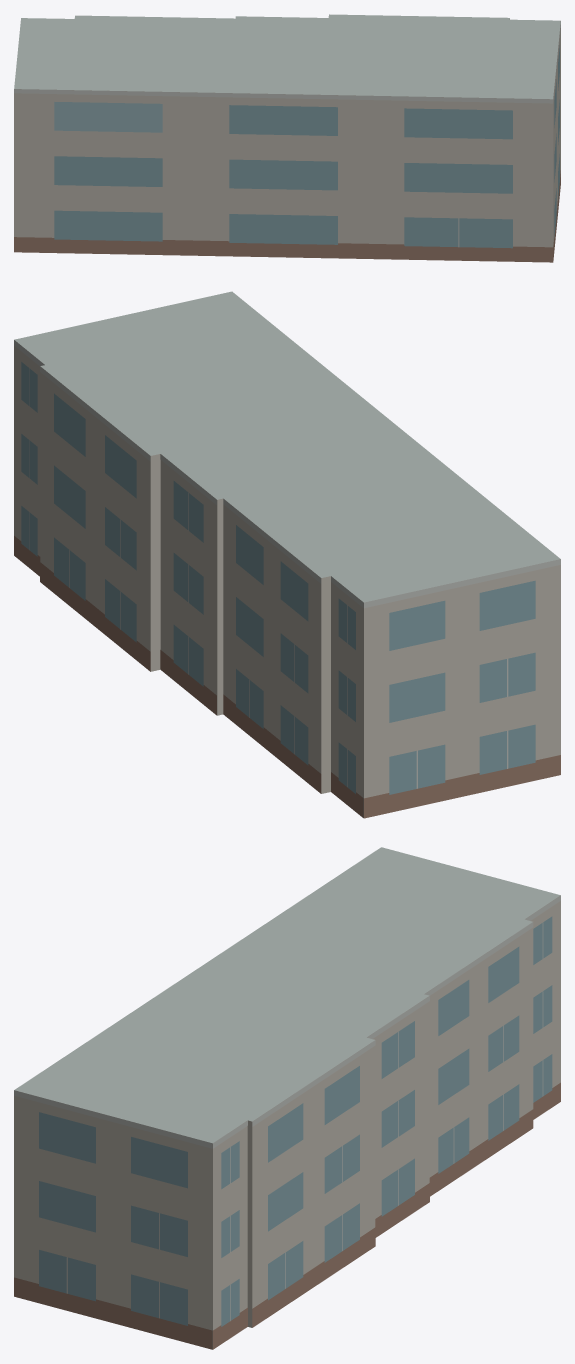
The model's file is survey-upis-33010464.glb.
3 views of the same model, one above another, from view 1: azimuth 30°, elevation 25°; view 2: azimuth 150°, elevation 25°; view 3: azimuth 270°, elevation 25° (orthographic). The views are drawn at different scales.
Visible parts, largest first — view 1: survey-upis-33010464.tmp; view 2: survey-upis-33010464.tmp; view 3: survey-upis-33010464.tmp.
Boxes of the visible parts, left/top/right/bottom form: survey-upis-33010464.tmp: left=14, top=14, right=560, bottom=262; survey-upis-33010464.tmp: left=14, top=291, right=560, bottom=818; survey-upis-33010464.tmp: left=14, top=847, right=560, bottom=1349.
Bounding box in the file's own units: 28.17 × 9.15 × 21.97.
